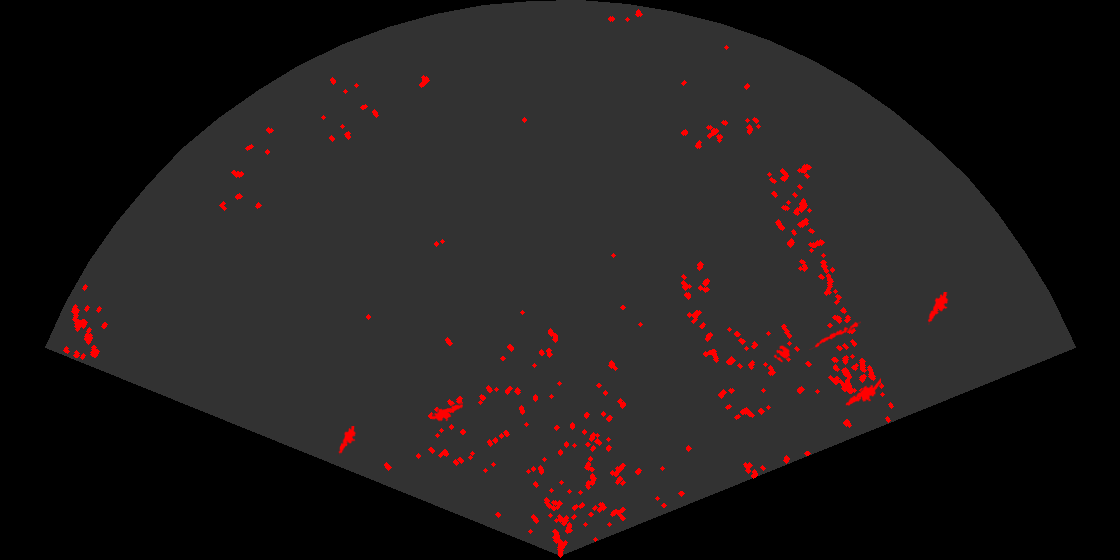ball: (772, 344, 792, 364)
chain: (809, 320, 861, 350)
frogman: (844, 377, 881, 408), (926, 292, 950, 325), (432, 402, 463, 423), (337, 426, 358, 456)
